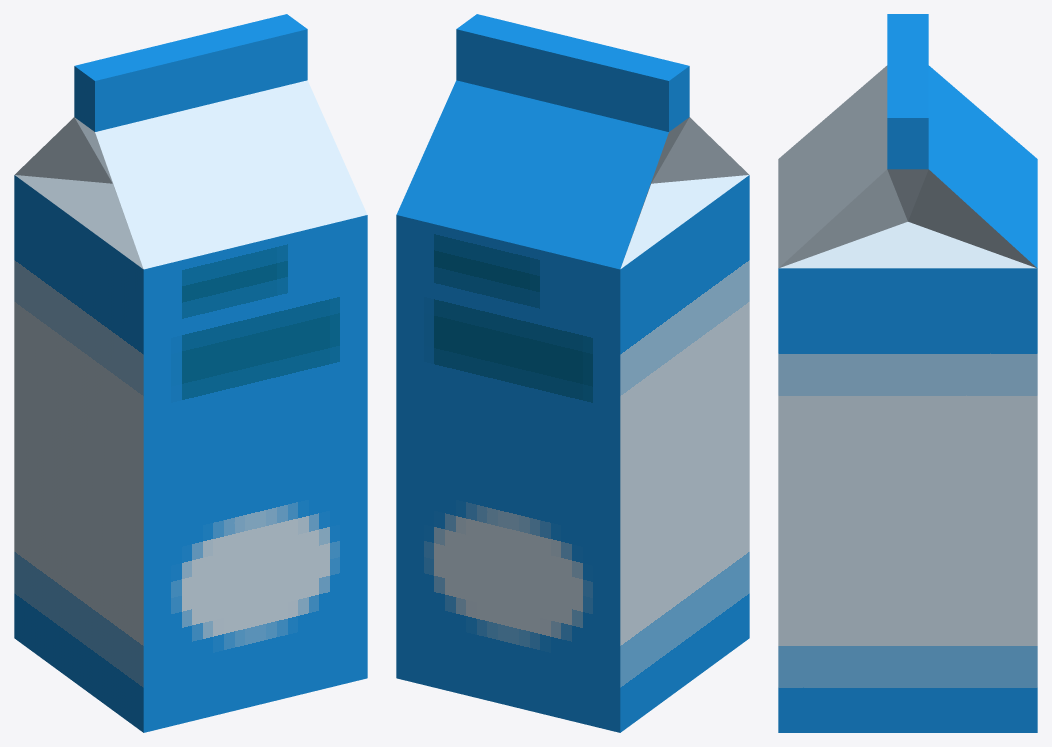
The model's file is SM_Prop_Product_Milk_01.glb.
The picture shows the model from 3 angles, left to right: view 1: azimuth 30°, elevation 25°; view 2: azimuth 150°, elevation 25°; view 3: azimuth 270°, elevation 25°; orthographic projection.
Parts seen in each view (by area): view 1: SM_Prop_Product_Milk_01; view 2: SM_Prop_Product_Milk_01; view 3: SM_Prop_Product_Milk_01.
Boxes of the visible parts, x1,y1,x2,y2 form: SM_Prop_Product_Milk_01: [14, 14, 367, 732]; SM_Prop_Product_Milk_01: [396, 14, 749, 732]; SM_Prop_Product_Milk_01: [778, 14, 1037, 732].
Size of the model in its own units: 0.1818 by 0.474 by 0.1818.
1 material, 1 textured.
